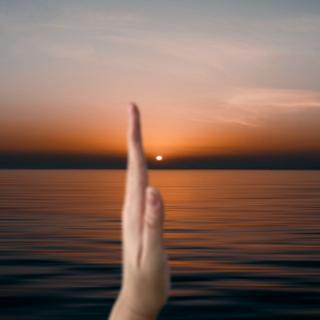Right: (101, 89, 193, 311)
